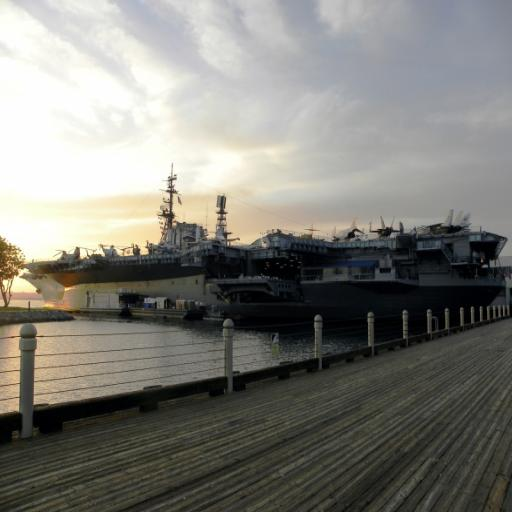Portanaves: (21, 163, 500, 323), (16, 166, 244, 314)
